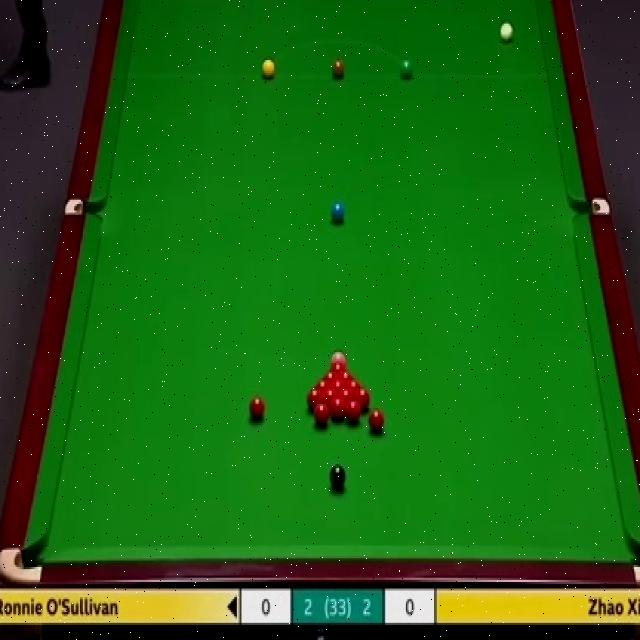black-ball: (329, 461, 346, 491)
blue-ball: (332, 202, 346, 226)
brown-ball: (332, 60, 345, 80)
green-ball: (400, 59, 413, 79)
pink-ball: (330, 347, 347, 365)
red-ball: (246, 398, 266, 424), (367, 407, 384, 437), (330, 397, 346, 422), (312, 404, 328, 429), (354, 388, 372, 409), (345, 401, 361, 424), (307, 388, 323, 410), (322, 387, 339, 404), (339, 389, 353, 408), (336, 372, 356, 382), (330, 380, 347, 391), (346, 380, 364, 390), (329, 361, 347, 371), (315, 381, 330, 392), (320, 372, 337, 381)
white-ball: (498, 16, 516, 44)
yellow-ball: (261, 57, 276, 79)
